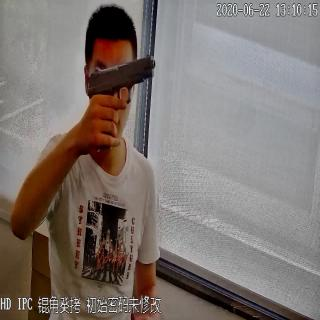gun: (80, 51, 158, 155)
